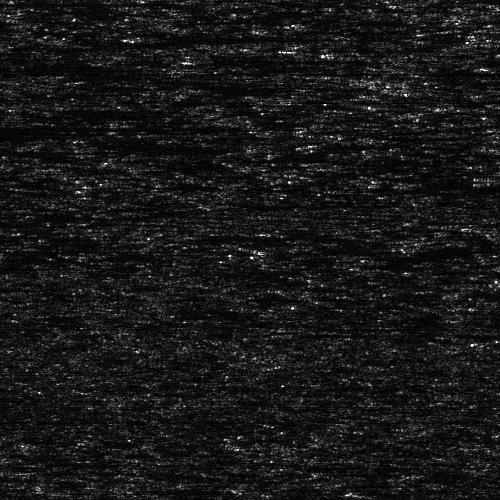object: (471, 337, 500, 346), (119, 33, 160, 38)
shadow: (0, 123, 137, 132), (140, 33, 305, 38), (0, 0, 113, 5), (0, 146, 60, 155), (487, 337, 500, 346)
